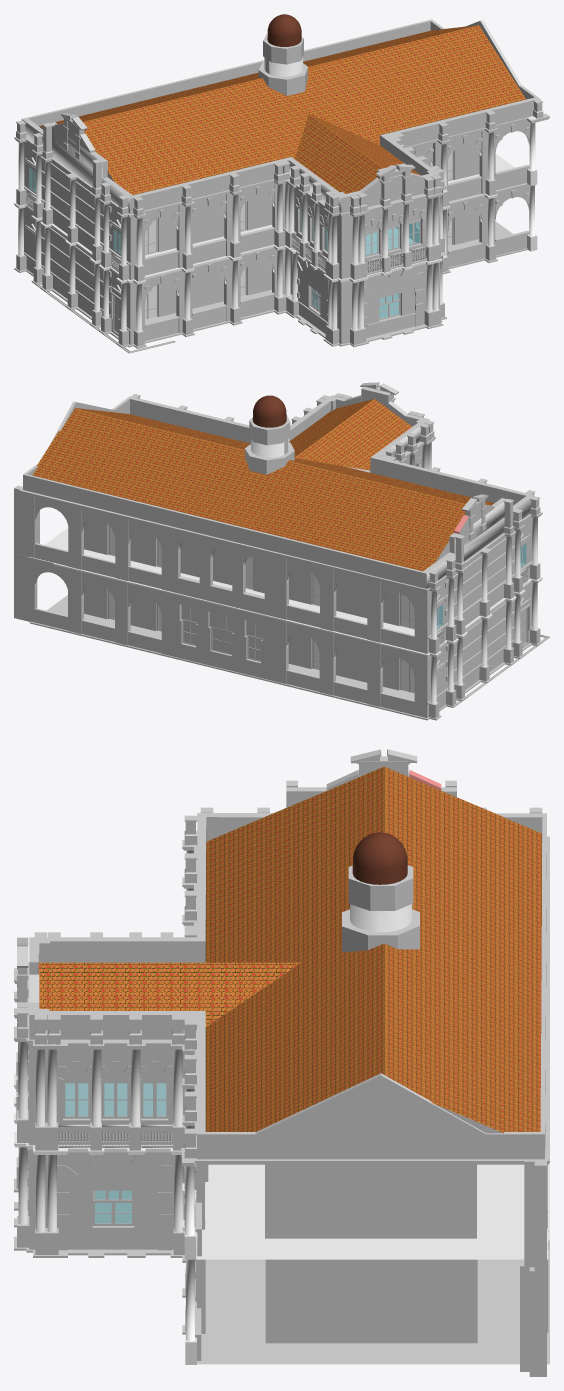
Rendered from Muzium_Penang.glb.
The picture shows the model from 3 angles, top to bottom: view 1: azimuth 30°, elevation 25°; view 2: azimuth 150°, elevation 25°; view 3: azimuth 270°, elevation 25°; orthographic projection. The views are drawn at different scales.
Visible parts, largest first — view 1: G-__561495.001, Group#530.001, Group#213.001, G-__559200.001, G-__558957.001, G-__559083.001, G-__558921.001, G-__561369.001, G-__561297.001, G-__561342.001, G-__559164.001, G-__558930.001 (+61 smaller); view 2: G-__561495.001, Group#530.001, G-__559209.001, G-__558633.001, Group#213.001, G-__559200.001, G-__558957.001, G-__559083.001, G-__561369.001, G-__561297.001, G-__561342.001, G-__559065.001 (+38 smaller); view 3: G-__561495.001, Group#530.001, G-__561369.001, G-__558957.001, G-__561297.001, G-__559200.001, G-__558939.001, G-__559191.001, Group#213.001, G-__561342.001, G-__561531.001, G-__559065.001 (+19 smaller).
Boxes of the visible parts, <box> form: G-__561495.001: <box>39,25,525,195</box>; Group#530.001: <box>21,19,540,213</box>; Group#213.001: <box>24,196,495,344</box>; G-__559200.001: <box>118,142,479,255</box>; G-__558957.001: <box>158,208,479,316</box>; G-__559083.001: <box>27,142,111,251</box>; G-__558921.001: <box>364,264,423,338</box>; G-__561369.001: <box>14,221,527,348</box>; G-__561297.001: <box>14,154,526,283</box>; G-__561342.001: <box>14,113,549,217</box>; G-__559164.001: <box>364,194,425,269</box>; G-__558930.001: <box>297,255,327,333</box>; G-__561495.001: <box>32,399,494,571</box>; Group#530.001: <box>23,386,534,588</box>; G-__559209.001: <box>68,503,383,642</box>; G-__558633.001: <box>68,568,382,706</box>; Group#213.001: <box>14,553,531,717</box>; G-__559200.001: <box>84,518,437,629</box>; G-__558957.001: <box>84,583,399,690</box>; G-__559083.001: <box>437,529,514,639</box>; G-__561369.001: <box>30,595,542,720</box>; G-__561297.001: <box>28,528,542,656</box>; G-__561342.001: <box>19,436,542,591</box>; G-__559065.001: <box>14,485,39,557</box>; G-__561495.001: <box>38,766,541,1133</box>; Group#530.001: <box>29,787,546,1159</box>; G-__561369.001: <box>14,1178,549,1364</box>; G-__558957.001: <box>265,1259,477,1343</box>; G-__561297.001: <box>14,1073,548,1259</box>; G-__559200.001: <box>265,1164,476,1238</box>; G-__558939.001: <box>57,1152,172,1250</box>; G-__559191.001: <box>58,1047,172,1144</box>; Group#213.001: <box>27,1149,546,1376</box>; G-__561342.001: <box>14,836,549,1165</box>; G-__561531.001: <box>342,904,419,952</box>; G-__559065.001: <box>524,1149,546,1271</box>.
Size of what is drawn, in the model's own units: 34.69 by 18.42 by 23.47.
Materials: 20 (2 with a texture image).
